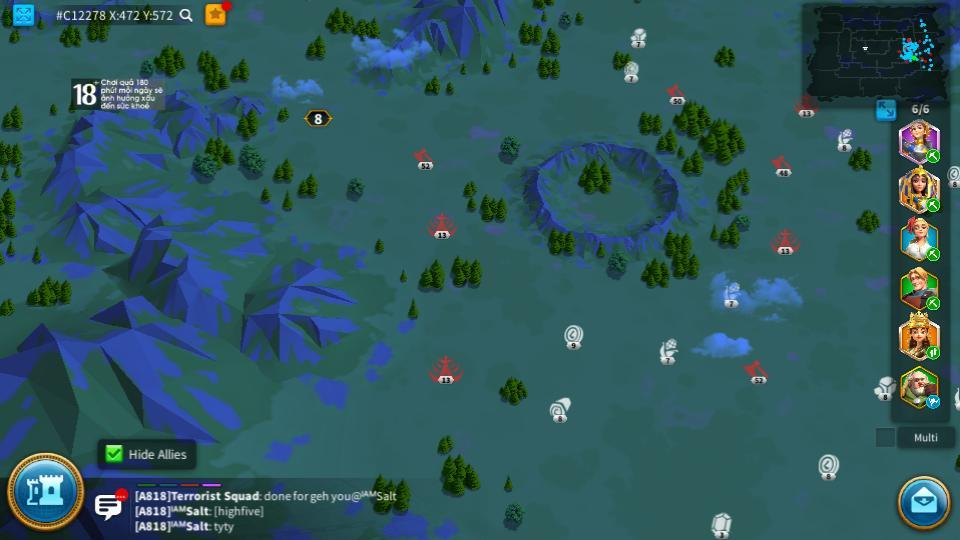gem-z-out: (709, 512, 733, 538), (564, 324, 585, 346)
march_idle: (925, 396, 941, 408)
march_marching: (925, 197, 941, 212), (925, 347, 941, 359), (925, 150, 941, 162), (925, 297, 942, 308)
